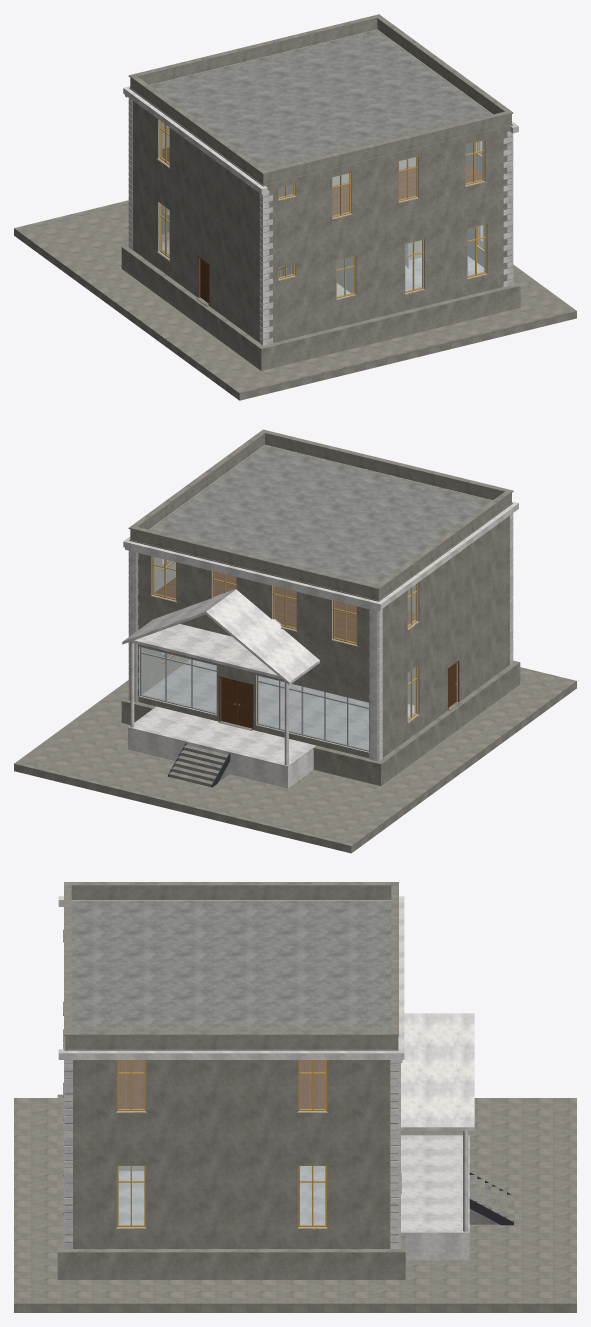
Rendered from b_bank_classical.gltf.
The picture shows the model from 3 angles, top to bottom: view 1: azimuth 30°, elevation 25°; view 2: azimuth 150°, elevation 25°; view 3: azimuth 270°, elevation 25°; orthographic projection. The views are drawn at different scales.
Visible parts, largest first — view 1: S_bank_classical; view 2: S_bank_classical, D_bank_classical_F1_S2_Door0, D_bank_classical_F1_S2_Door1; view 3: S_bank_classical.
Boxes of the visible parts, x1,y1,x2,y2 form: S_bank_classical: (14,14,576,400); S_bank_classical: (14,429,576,853); D_bank_classical_F1_S2_Door0: (221,678,237,724); D_bank_classical_F1_S2_Door1: (237,682,252,728); S_bank_classical: (14,882,576,1312).
Bounding box in the file's own units: 19 × 10.86 × 22.
Materials: 16 (10 with a texture image).
